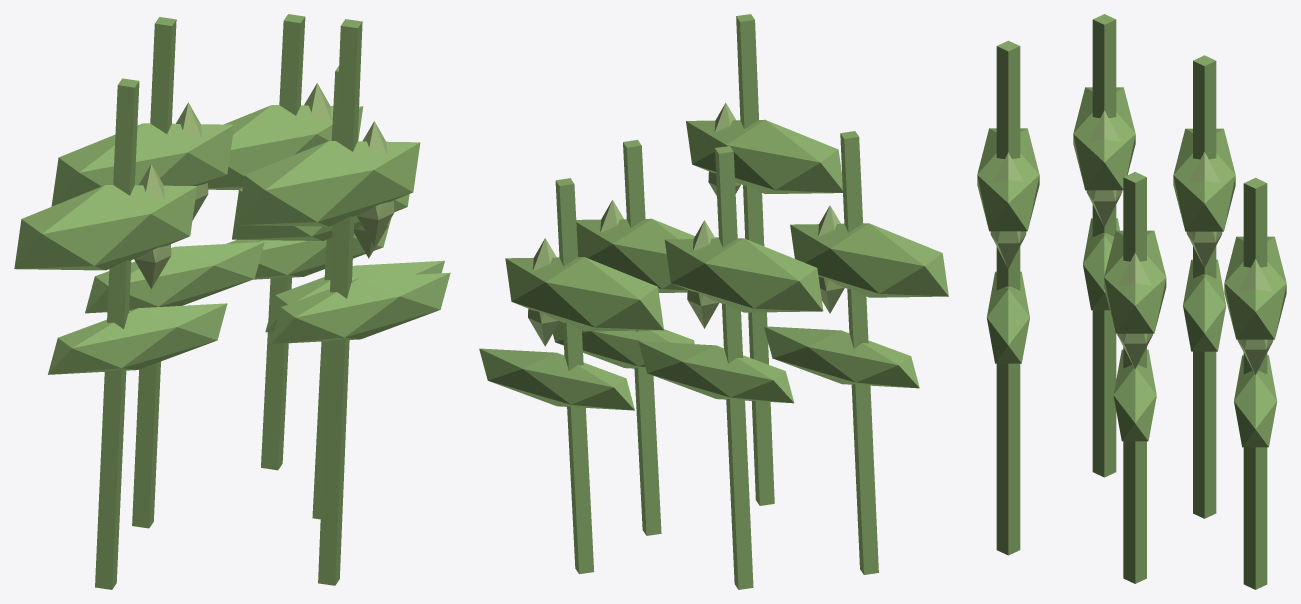
Rendered from crop_pea_ripe.glb.
The picture shows the model from 3 angles, left to right: view 1: azimuth 30°, elevation 25°; view 2: azimuth 150°, elevation 25°; view 3: azimuth 270°, elevation 25°; orthographic projection. The views are drawn at different scales.
Parts seen in each view (by area): view 1: crop_pea_ripe; view 2: crop_pea_ripe; view 3: crop_pea_ripe.
Boxes of the visible parts, box(x1,y1,x2,y2) form: crop_pea_ripe: box(14, 14, 450, 589); crop_pea_ripe: box(479, 14, 948, 589); crop_pea_ripe: box(977, 14, 1286, 589).
Size of the model in its own units: 0.506 by 0.5812 by 0.3163.
